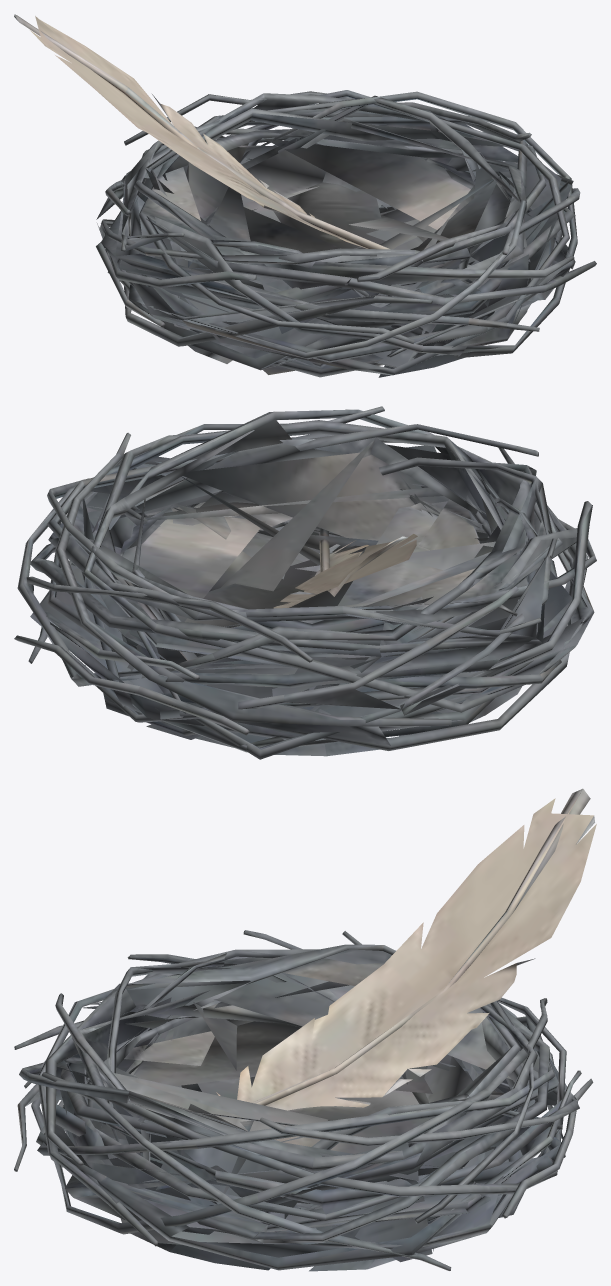
Rendered from nest.glb.
The picture shows the model from 3 angles, top to bottom: view 1: azimuth 30°, elevation 25°; view 2: azimuth 150°, elevation 25°; view 3: azimuth 270°, elevation 25°; orthographic projection. The views are drawn at different scales.
Size of the model in its own units: 1.83 by 1 by 1.89.
Materials: 1 (1 with a texture image).
